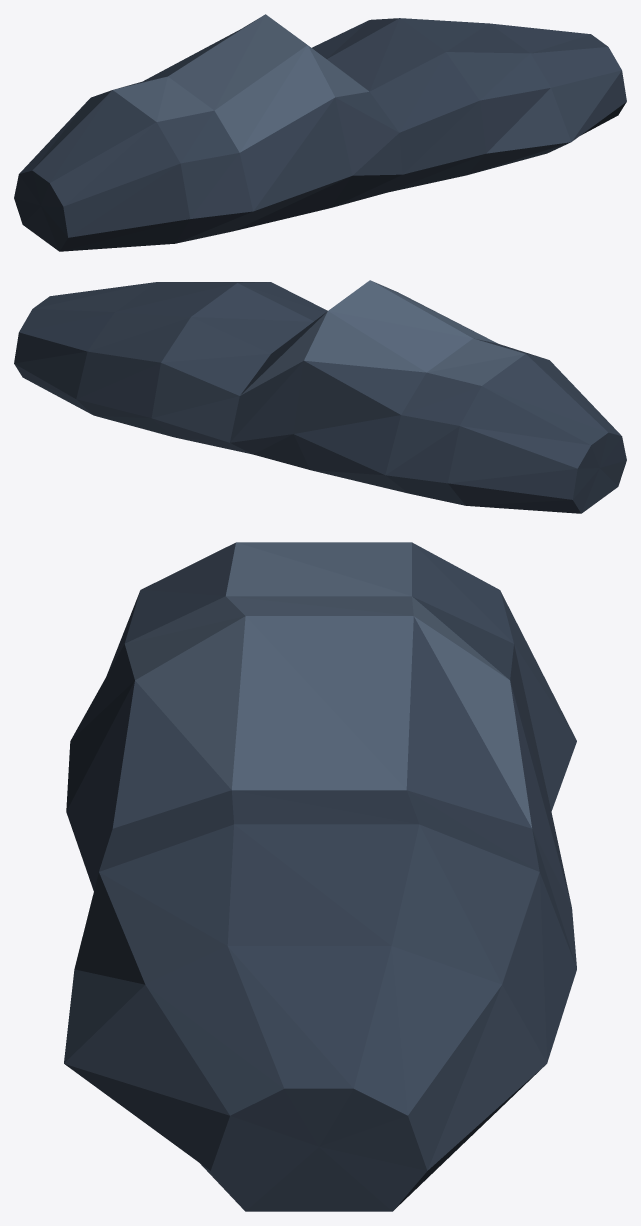
The model's file is ledge_z2_rock_short.glb.
3 views of the same model, one above another, from view 1: azimuth 30°, elevation 25°; view 2: azimuth 150°, elevation 25°; view 3: azimuth 270°, elevation 25° (orthographic). The views are drawn at different scales.
Visible parts, largest first — view 1: ledge_z2_rock_short; view 2: ledge_z2_rock_short; view 3: ledge_z2_rock_short.
Boxes of the visible parts, box(x1,y1,x2,y2) form: ledge_z2_rock_short: box(14, 14, 626, 251); ledge_z2_rock_short: box(14, 280, 626, 513); ledge_z2_rock_short: box(64, 542, 576, 1211).
Size of the model in its own units: 4 by 1 by 1.59.
